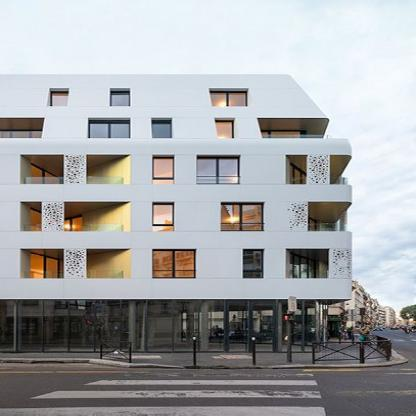Balcony: (26, 224, 124, 239), (24, 271, 122, 286), (26, 177, 124, 192), (286, 270, 352, 286), (287, 177, 348, 192), (262, 134, 332, 147), (288, 224, 349, 238), (0, 131, 43, 147)
Building Outline: (0, 74, 353, 353)
Deco: (329, 248, 352, 278), (308, 154, 330, 184), (64, 154, 86, 184), (64, 248, 86, 278), (286, 201, 308, 231), (42, 201, 63, 231)
Facade: (0, 75, 353, 353)
Floor Slab: (0, 286, 348, 292), (0, 192, 348, 198), (0, 239, 348, 245), (0, 147, 332, 153)
Glass Wall: (0, 300, 316, 353), (27, 162, 59, 196), (29, 252, 57, 286), (289, 162, 315, 198), (290, 254, 314, 284), (291, 212, 315, 242), (0, 131, 43, 147), (58, 217, 84, 242), (316, 299, 328, 353), (259, 132, 301, 147), (30, 209, 41, 241)
Window: (64, 202, 130, 231), (87, 248, 131, 278), (21, 248, 64, 278), (87, 155, 131, 184), (286, 248, 328, 278), (153, 249, 196, 278), (21, 155, 64, 184), (196, 156, 239, 184), (221, 203, 264, 231), (0, 118, 44, 138), (89, 120, 130, 138), (20, 201, 41, 231), (152, 203, 174, 231), (286, 155, 307, 184), (243, 249, 263, 278), (153, 157, 174, 184), (215, 120, 234, 138), (152, 120, 171, 138), (210, 93, 227, 108), (229, 93, 245, 108), (52, 93, 68, 106), (111, 95, 129, 106)
